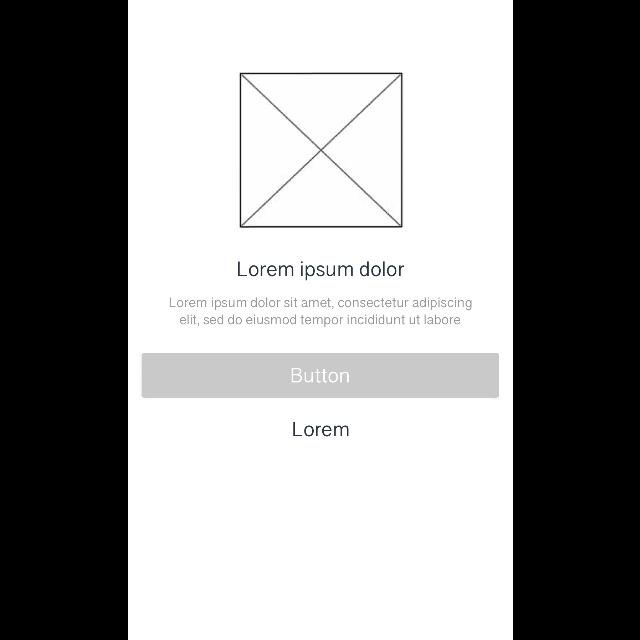image: (238, 72, 402, 228)
text: (169, 297, 471, 327), (237, 262, 403, 280), (292, 422, 348, 436)
textbutton: (141, 352, 499, 398)
